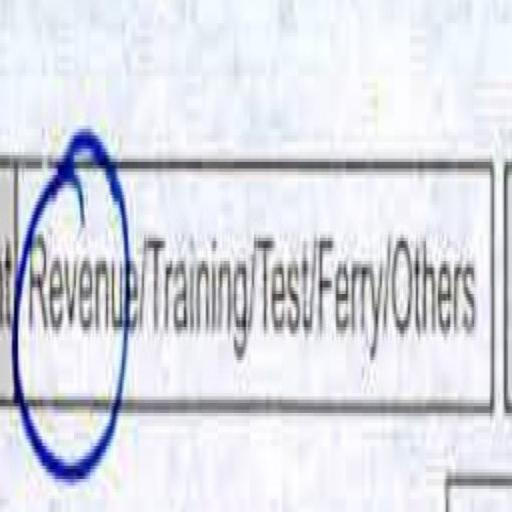check: (8, 95, 136, 491)
